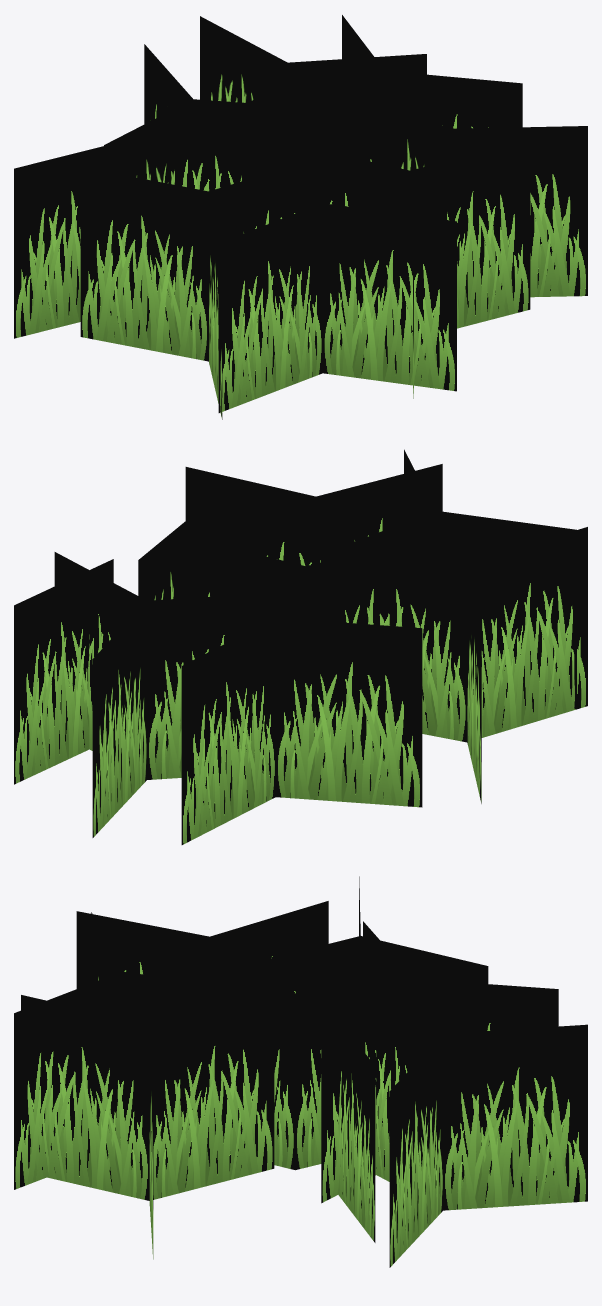
The model's file is sn-grass-patch.glb.
3 renders of one model, top to bottom at view 1: azimuth 30°, elevation 25°; view 2: azimuth 150°, elevation 25°; view 3: azimuth 270°, elevation 25°, orthographic. The views are drawn at different scales.
Visible parts, largest first — view 1: GrassPatch; view 2: GrassPatch; view 3: GrassPatch.
Part boxes in pixels (left/top/right/bottom): GrassPatch: left=14, top=15, right=587, bottom=419; GrassPatch: left=14, top=449, right=587, bottom=844; GrassPatch: left=14, top=876, right=587, bottom=1267.
Bounding box in the file's own units: 2.95 × 1.02 × 2.98.
1 material, 1 textured.
